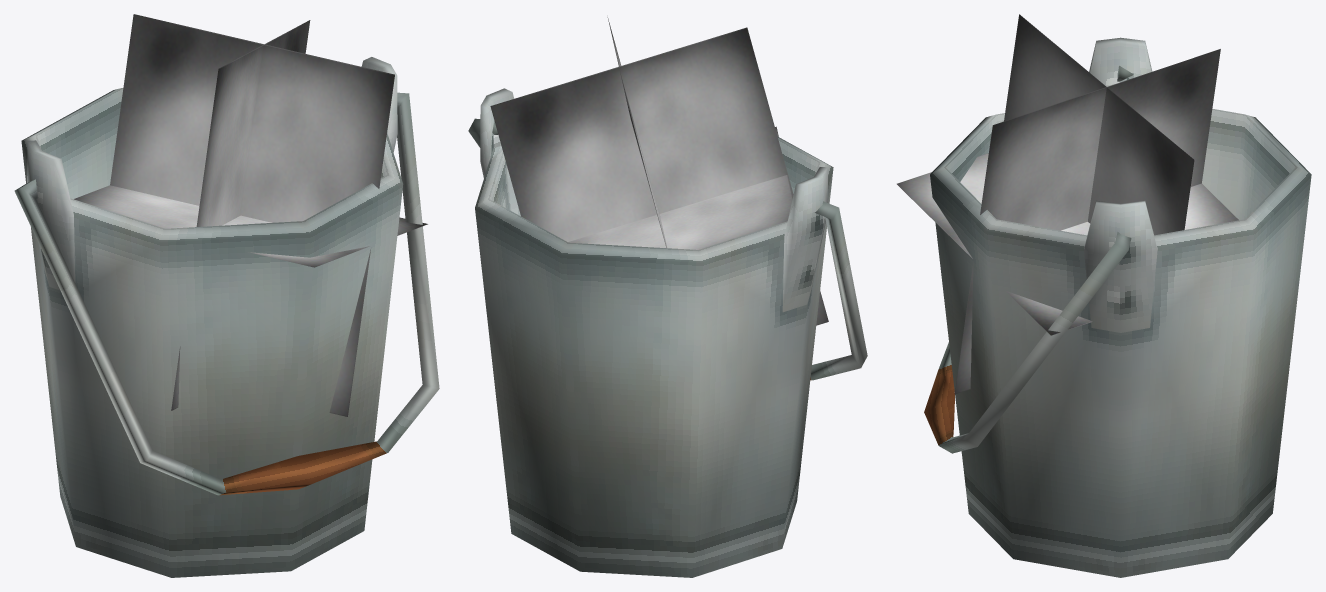
Rendered from a_SWGbucket.glb.
The picture shows the model from 3 angles, left to right: view 1: azimuth 30°, elevation 25°; view 2: azimuth 150°, elevation 25°; view 3: azimuth 270°, elevation 25°; orthographic projection. The views are drawn at different scales.
Parts seen in each view (by area): view 1: a_SWGbucket; view 2: a_SWGbucket; view 3: a_SWGbucket.
Part boxes in pixels (bbox=[...]): a_SWGbucket: bbox=[14, 14, 439, 577]; a_SWGbucket: bbox=[468, 17, 867, 577]; a_SWGbucket: bbox=[897, 14, 1311, 577].
Size of the model in its own units: 0.4688 by 0.5716 by 0.4503.
2 materials, 2 textured.
